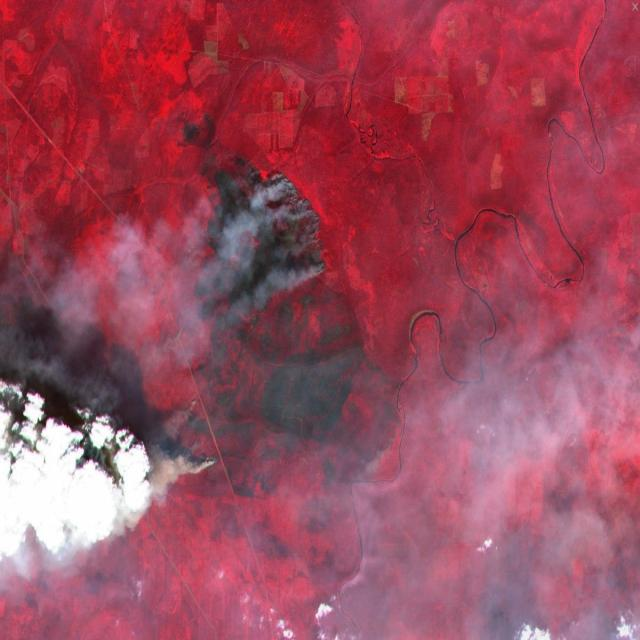fire: (138, 165, 328, 488)
